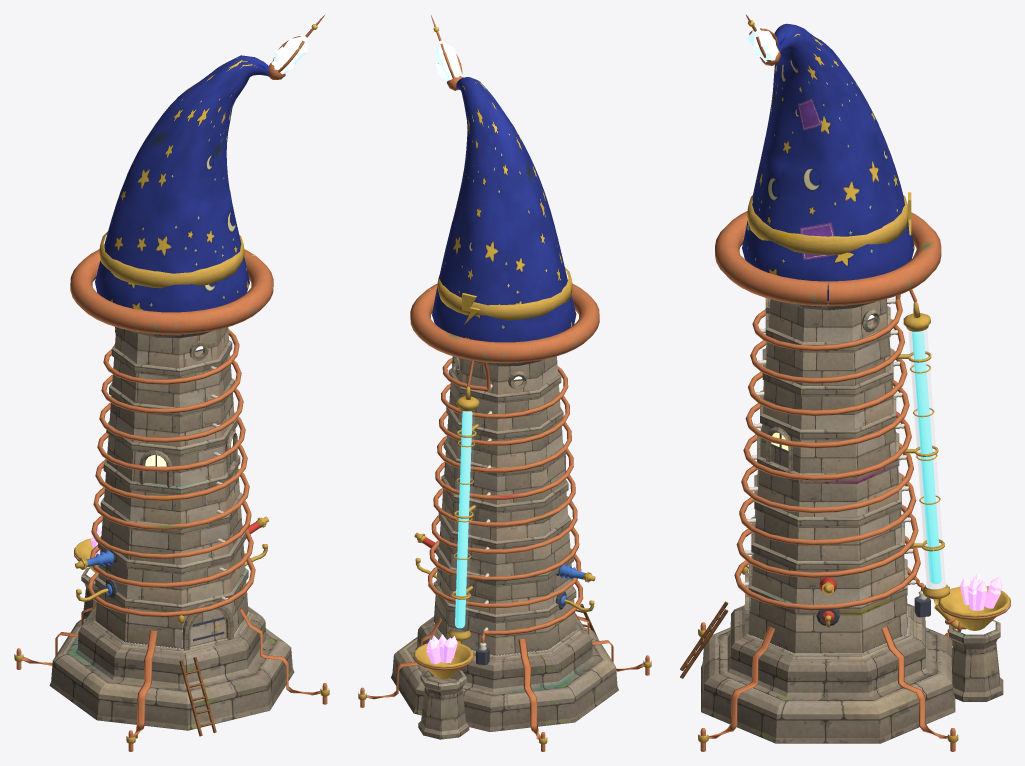
The model's file is stormspire.glb.
The picture shows the model from 3 angles, left to right: view 1: azimuth 30°, elevation 25°; view 2: azimuth 150°, elevation 25°; view 3: azimuth 270°, elevation 25°; orthographic projection. The views are drawn at different scales.
Visible parts, largest first — view 1: Stormspire_Stormspire, Stormspire_Hat, Stormspire_Coil, Capacitor_Crystal; view 2: Stormspire_Stormspire, Stormspire_Hat, Stormspire_Coil, ChargeColumn_Glass, ChargeColumn_Core, Hopper_Crystals, Capacitor_Crystal; view 3: Stormspire_Stormspire, Stormspire_Hat, Stormspire_Coil, ChargeColumn_Glass, ChargeColumn_Core, Hopper_Crystals, Capacitor_Crystal.
Boxes of the visible parts, <box> form: Stormspire_Stormspire: <box>14,231,329,751</box>; Stormspire_Hat: <box>95,55,269,312</box>; Stormspire_Coil: <box>70,249,273,617</box>; Capacitor_Crystal: <box>271,36,307,74</box>; Stormspire_Stormspire: <box>358,267,651,751</box>; Stormspire_Hat: <box>432,77,576,342</box>; Stormspire_Coil: <box>410,283,599,643</box>; ChargeColumn_Glass: <box>452,410,474,631</box>; ChargeColumn_Core: <box>455,411,472,628</box>; Hopper_Crystals: <box>426,634,457,664</box>; Capacitor_Crystal: <box>435,40,462,81</box>; Stormspire_Stormspire: <box>680,192,1010,751</box>; Stormspire_Hat: <box>742,23,914,300</box>; Stormspire_Coil: <box>715,211,941,610</box>; ChargeColumn_Glass: <box>909,330,944,588</box>; ChargeColumn_Core: <box>912,331,941,584</box>; Hopper_Crystals: <box>960,572,1002,610</box>; Capacitor_Crystal: <box>747,26,778,62</box>.
Size of the model in its own units: 3.1 by 9.11 by 3.65.
Materials: 8 (3 with a texture image).
